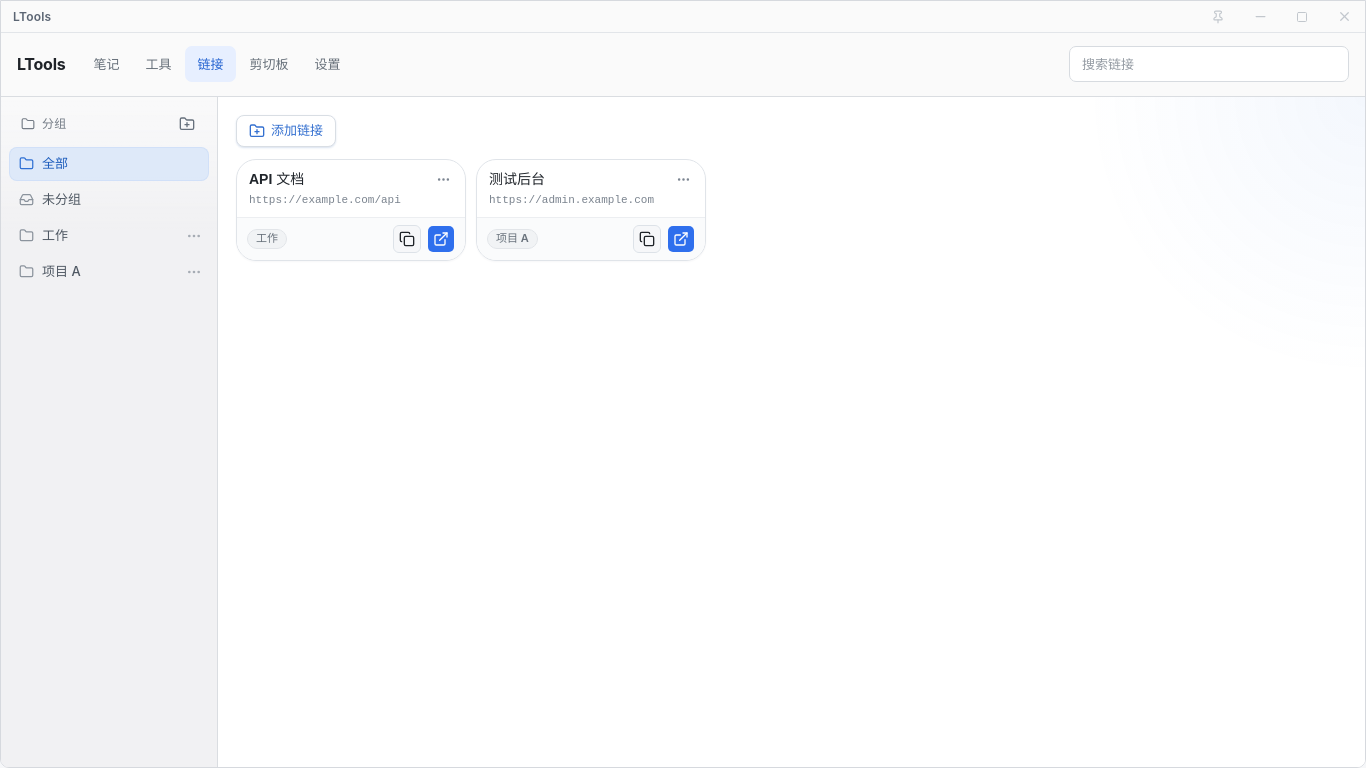
Test: shared group management › renames and deletes a group through the shared menu
The image size is (1366, 768).
Click the button named "管理分组 项目 A" at coordinates (194, 272), box x1=180 y1=258 x2=208 y2=286
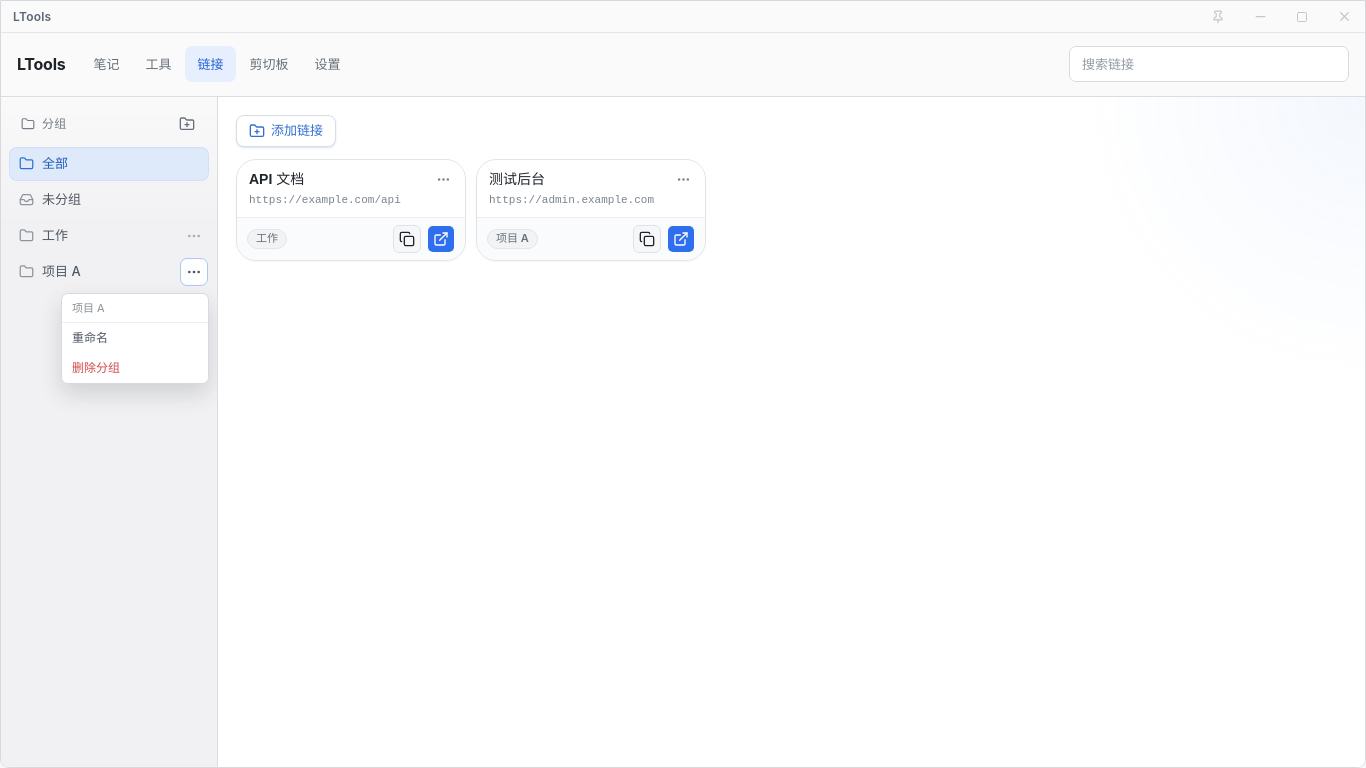
Click the button "重命名" at coordinates (135, 338), box x1=62 y1=323 x2=208 y2=353
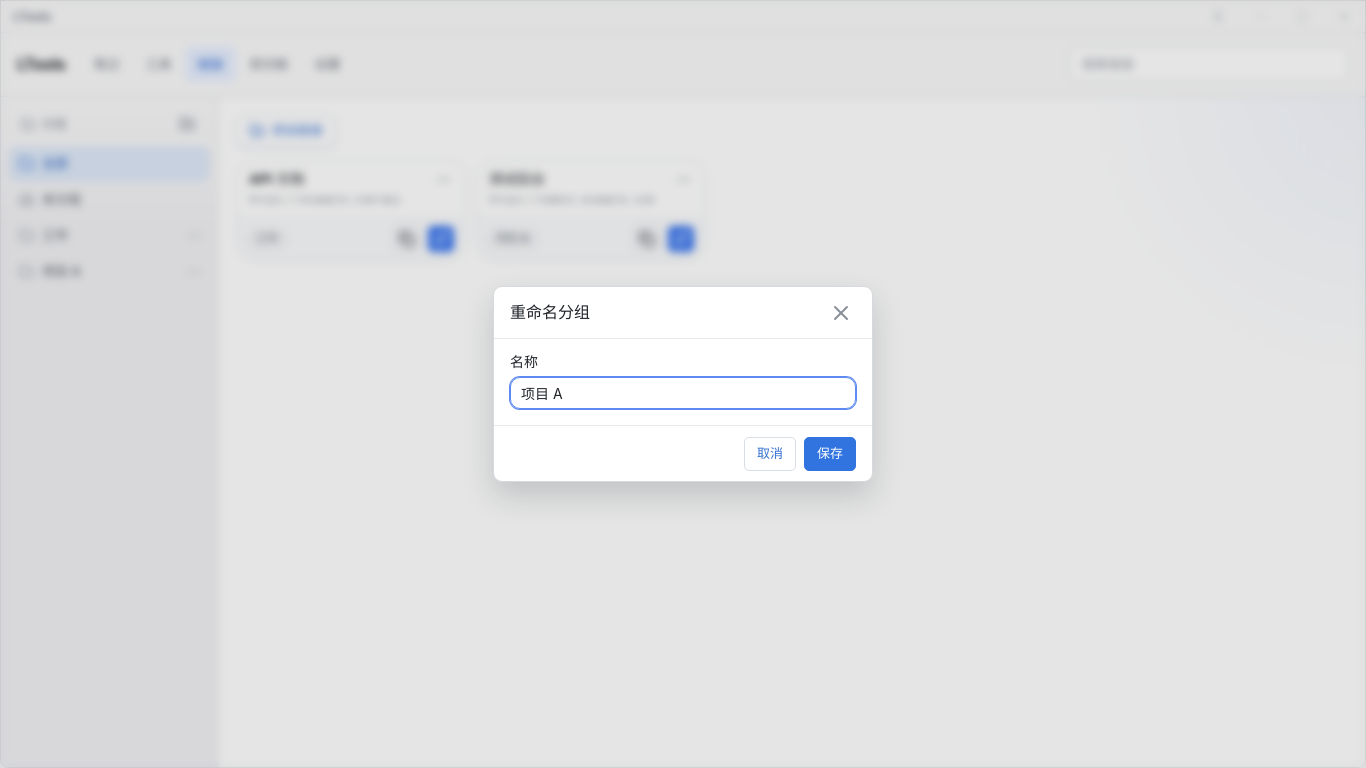
Replace the text in the field labelled "名称" with "项目 Alpha" at coordinates (683, 393), box x1=510 y1=377 x2=856 y2=409
Click the button "保存" at coordinates (830, 454), box x1=804 y1=436 x2=856 y2=470
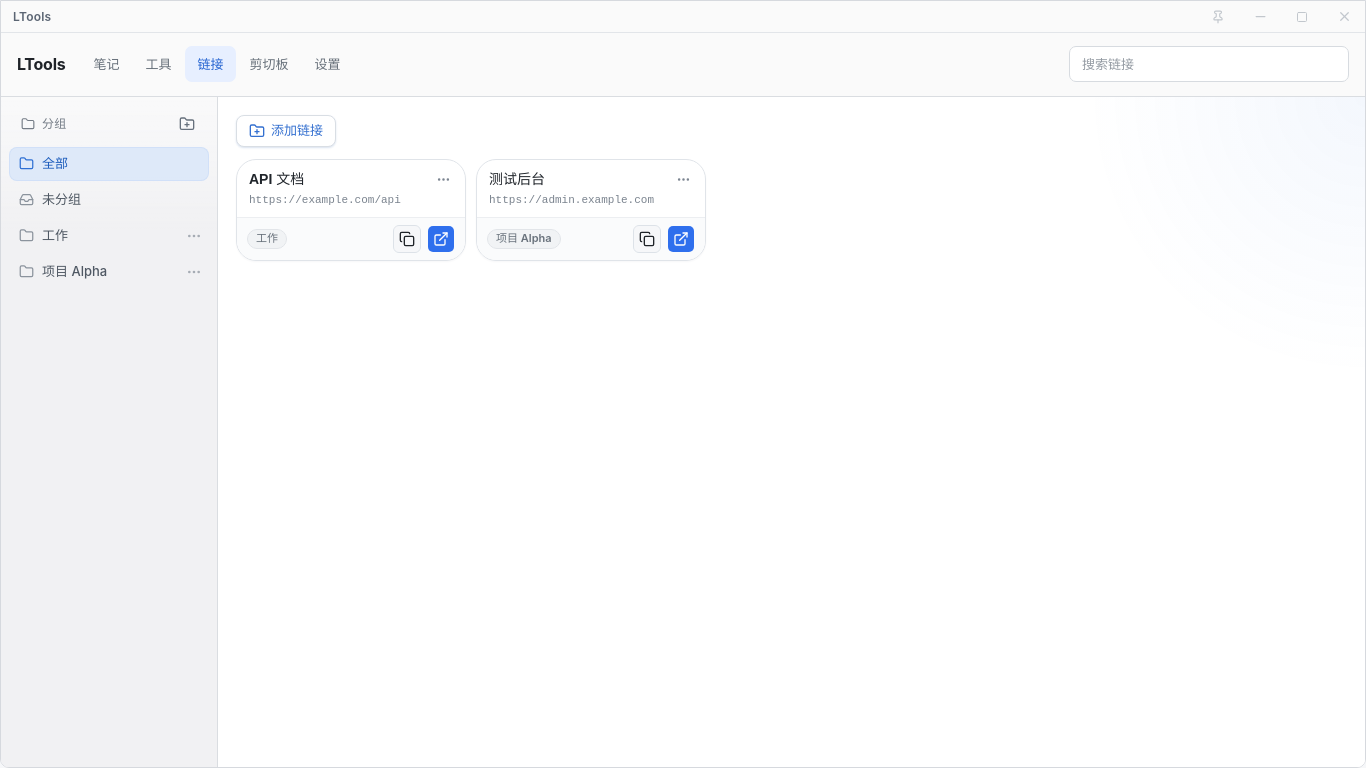
expect the button "项目 Alpha" is shown: met, box x1=9 y1=255 x2=181 y2=289
Click the button named "管理分组 项目 Alpha" at coordinates (194, 272), box x1=180 y1=258 x2=208 y2=286
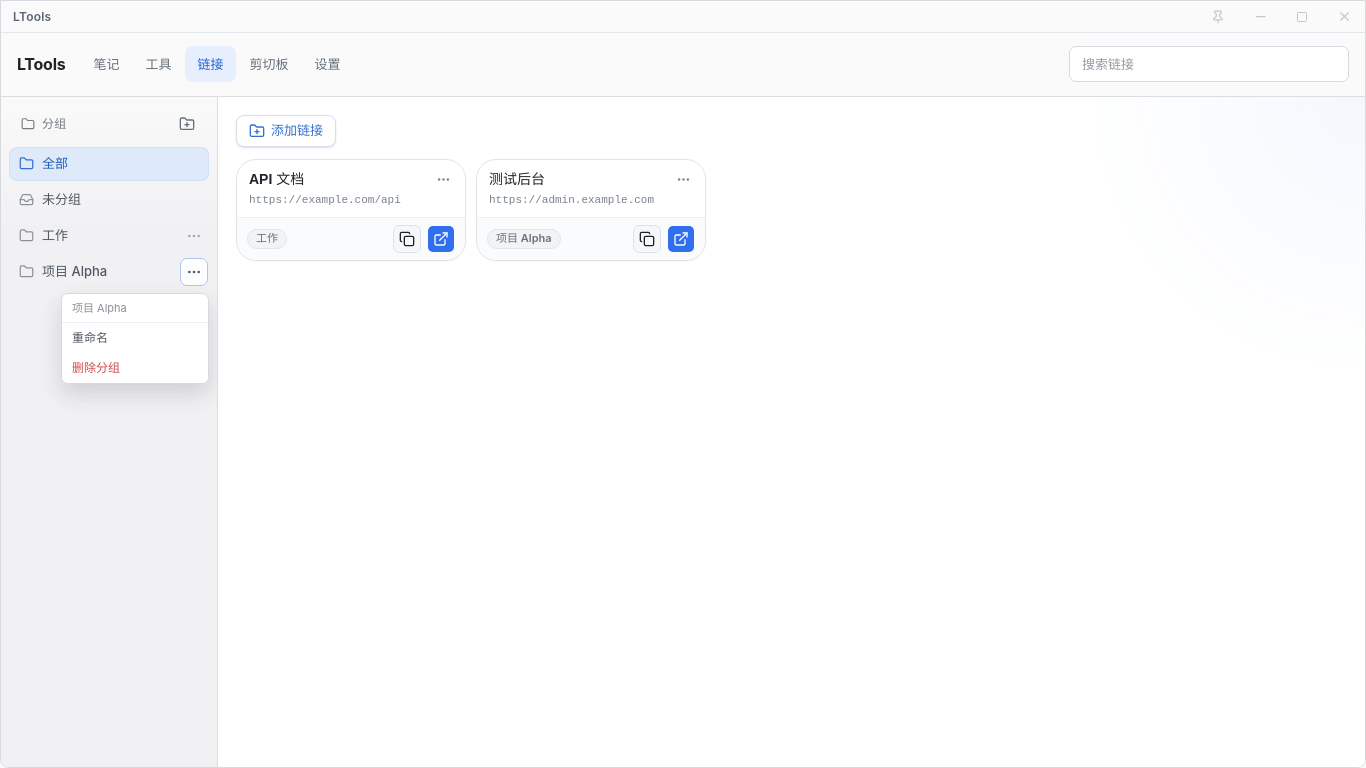
Click the button "删除分组" at coordinates (135, 368), box x1=62 y1=353 x2=208 y2=383
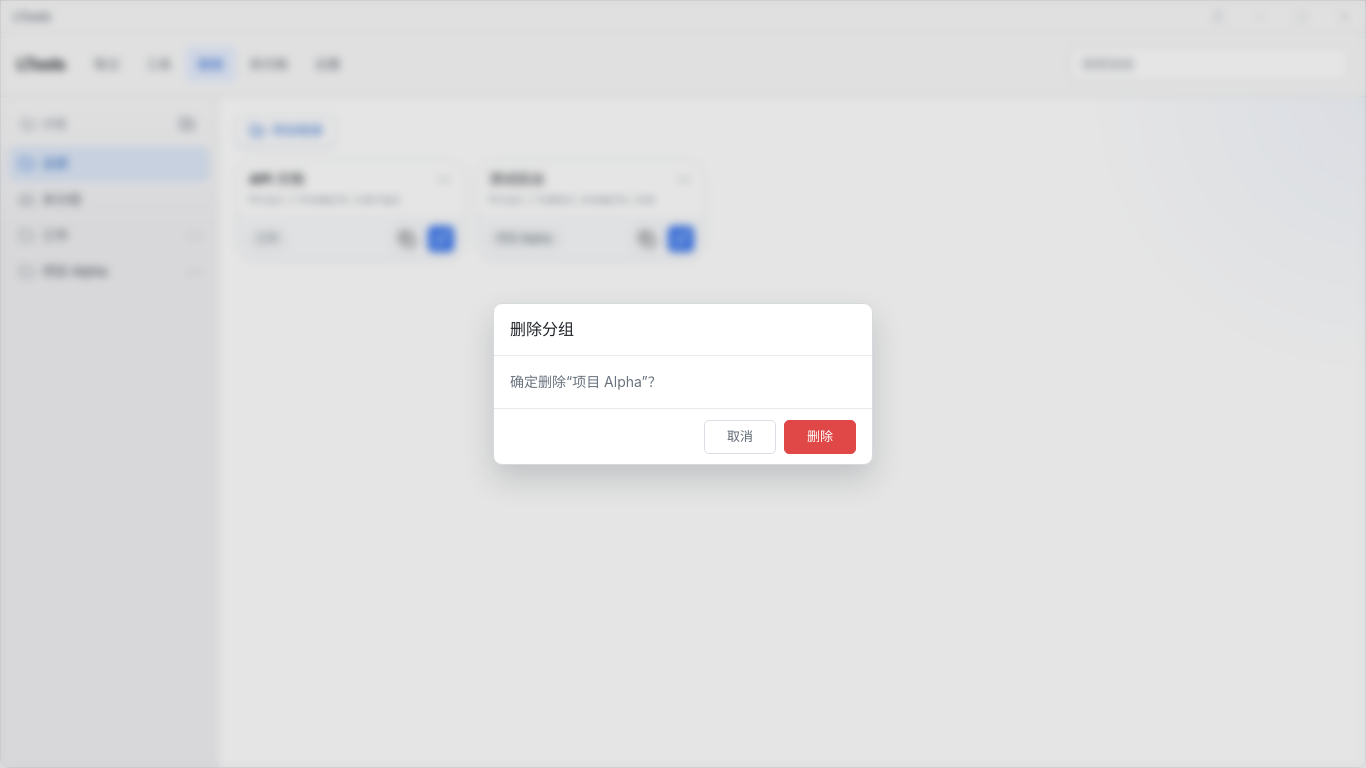
expect the dialog "删除分组" shows "确定删除“项目 Alpha”？": met, box x1=510 y1=373 x2=662 y2=390
Click the button "删除" at coordinates (820, 436), box x1=784 y1=420 x2=856 y2=454
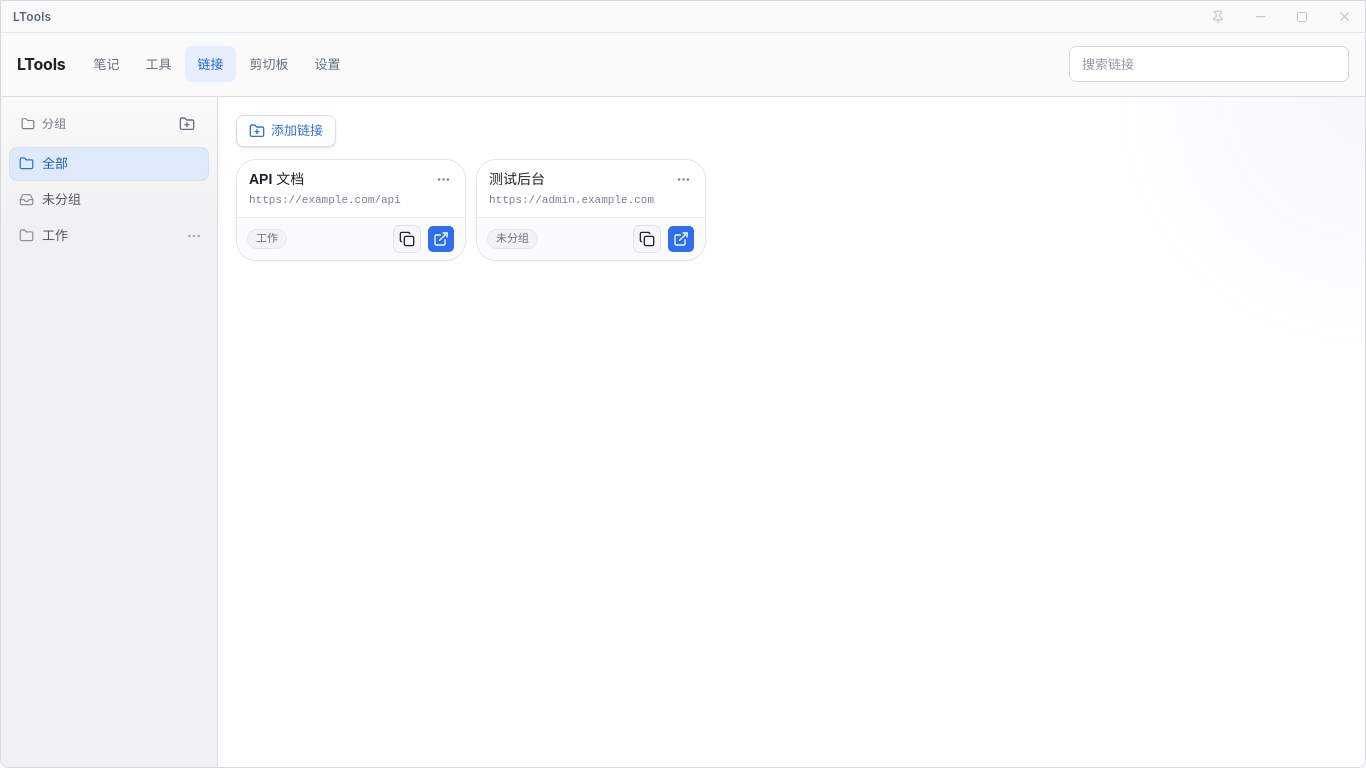
expect the button "项目 Alpha" is gone: met
